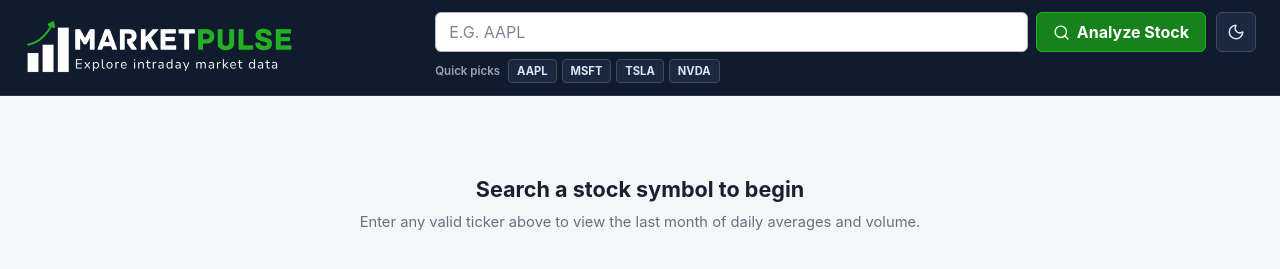
Test: MarketPulse app › rejects symbols longer than ten characters
Type "ABCDEFGHIJK" into the field named "Stock ticker symbol" at (732, 32), box [435,12,1028,52]
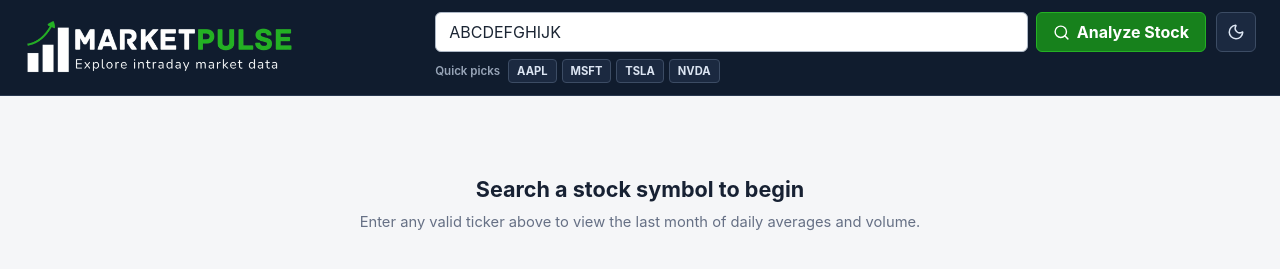
Click the button "Analyze Stock" at (1121, 32), box [1036,12,1206,52]
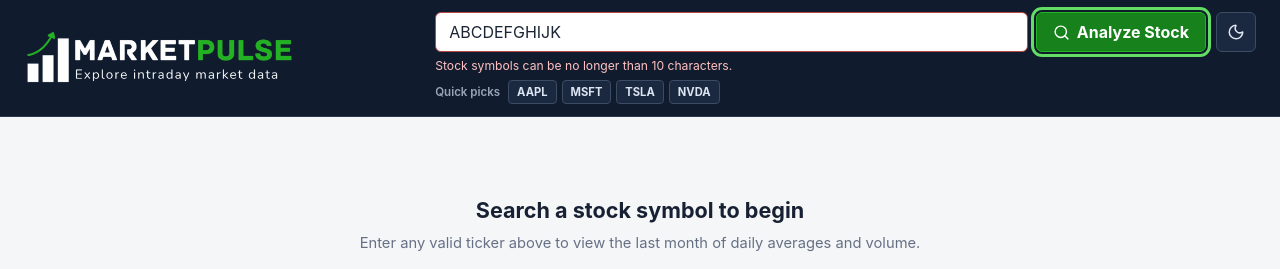
Result: the message reads "Stock symbols can be no longer than 10 characters." at [435,58,732,73]
